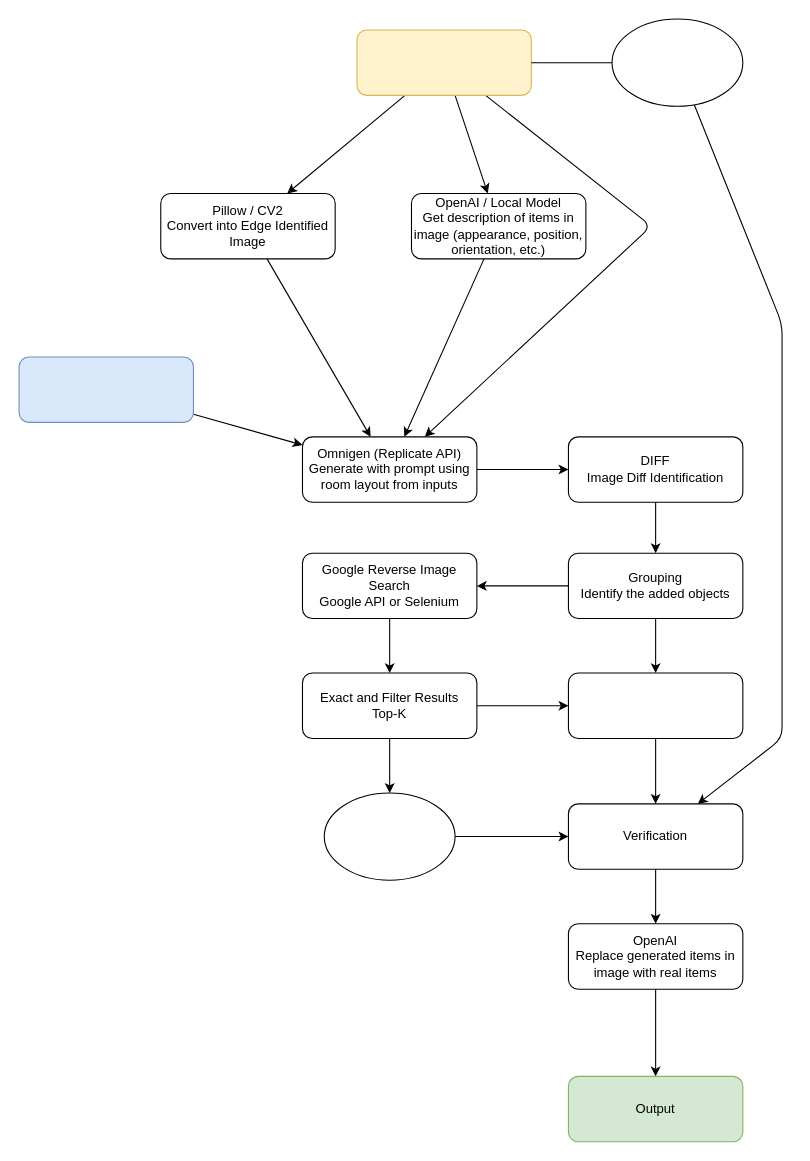
Some shapes in this 810 by 1161 pixel diagram are drawn without their labels. Each missing label, with the box of its shape:
(RAG) Sample Decorated Dorm Images: (18, 356, 193, 422)
Approximate Similarity Check Top-K: (567, 672, 743, 738)
Base Image: (356, 29, 531, 95)
Images Prices Companies Location etc.: (323, 792, 455, 880)
Parameters {style, buget, etc.}: (611, 18, 743, 106)
